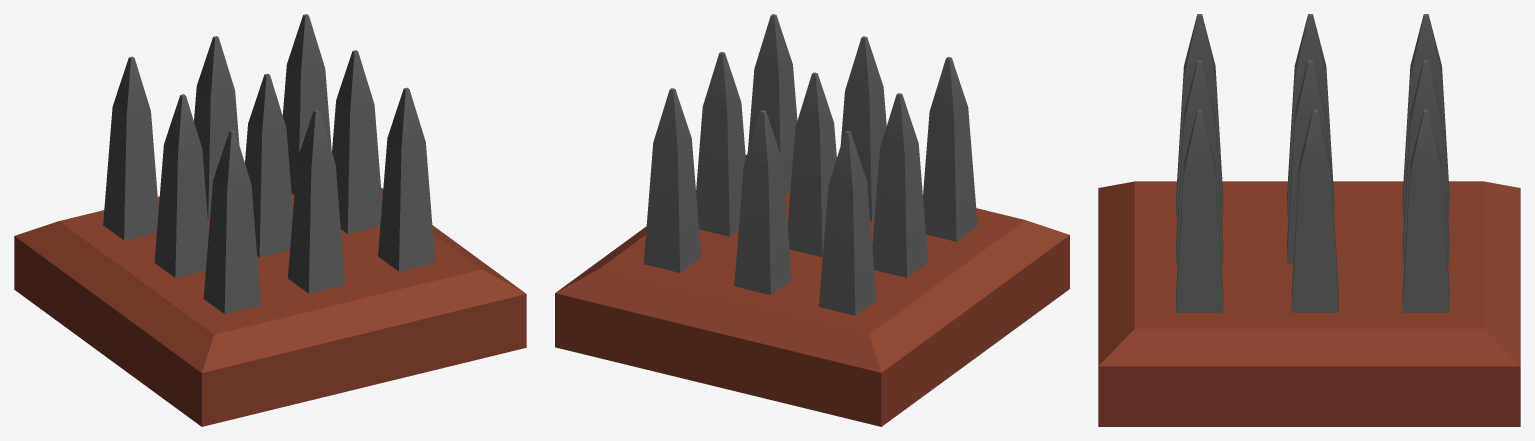
The model's file is Spikes4.fbx.
The picture shows the model from 3 angles, left to right: view 1: azimuth 30°, elevation 25°; view 2: azimuth 150°, elevation 25°; view 3: azimuth 270°, elevation 25°; orthographic projection. The views are drawn at different scales.
Parts seen in each view (by area): view 1: pCube1, pasted__pCube2 (×3), pasted__pasted__pCube2 (×3), pasted__pasted__pasted__pCube2 (×2), pCube2; view 2: pCube1, pasted__pasted__pCube2 (×3), pasted__pCube2 (×3), pasted__pasted__pasted__pCube2 (×2), pCube2; view 3: pCube1, pasted__pasted__pCube2 (×3), pasted__pCube2 (×3), pasted__pasted__pasted__pCube2 (×2), pCube2.
Part boxes in pixels (bbox=[...]): pCube1: bbox=[14, 187, 526, 426]; pasted__pCube2 (×3): bbox=[154, 87, 435, 293]; pasted__pasted__pCube2 (×3): bbox=[103, 50, 382, 257]; pasted__pasted__pasted__pCube2 (×2): bbox=[194, 14, 331, 219]; pCube2: bbox=[203, 130, 260, 313]; pCube1: bbox=[555, 155, 1069, 426]; pasted__pasted__pCube2 (×3): bbox=[696, 52, 876, 315]; pasted__pCube2 (×3): bbox=[747, 14, 928, 277]; pasted__pasted__pasted__pCube2 (×2): bbox=[643, 88, 791, 294]; pCube2: bbox=[923, 57, 977, 241]; pCube1: bbox=[1098, 181, 1520, 426]; pasted__pasted__pCube2 (×3): bbox=[1287, 14, 1449, 312]; pasted__pCube2 (×3): bbox=[1176, 14, 1334, 312]; pasted__pasted__pasted__pCube2 (×2): bbox=[1402, 60, 1449, 312]; pCube2: bbox=[1176, 14, 1223, 217].
Bounding box in the file's own units: 2.64 × 1.9 × 2.64.
